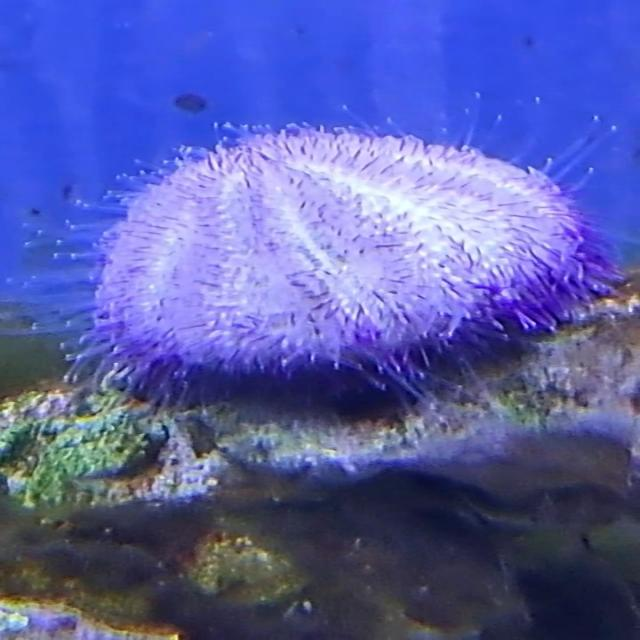Deniz Kestanesi: (19, 101, 617, 399)
